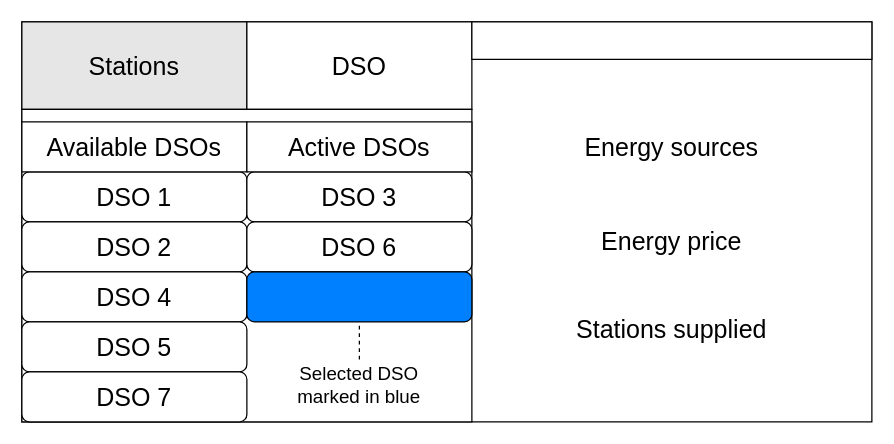
The diagram is 894 pixels wide and 444 high, and some of its shapes have lost their labels. Each missing label, with the box of its shape:
Details: (471, 21, 872, 59)
DSO 8: (246, 271, 472, 322)
